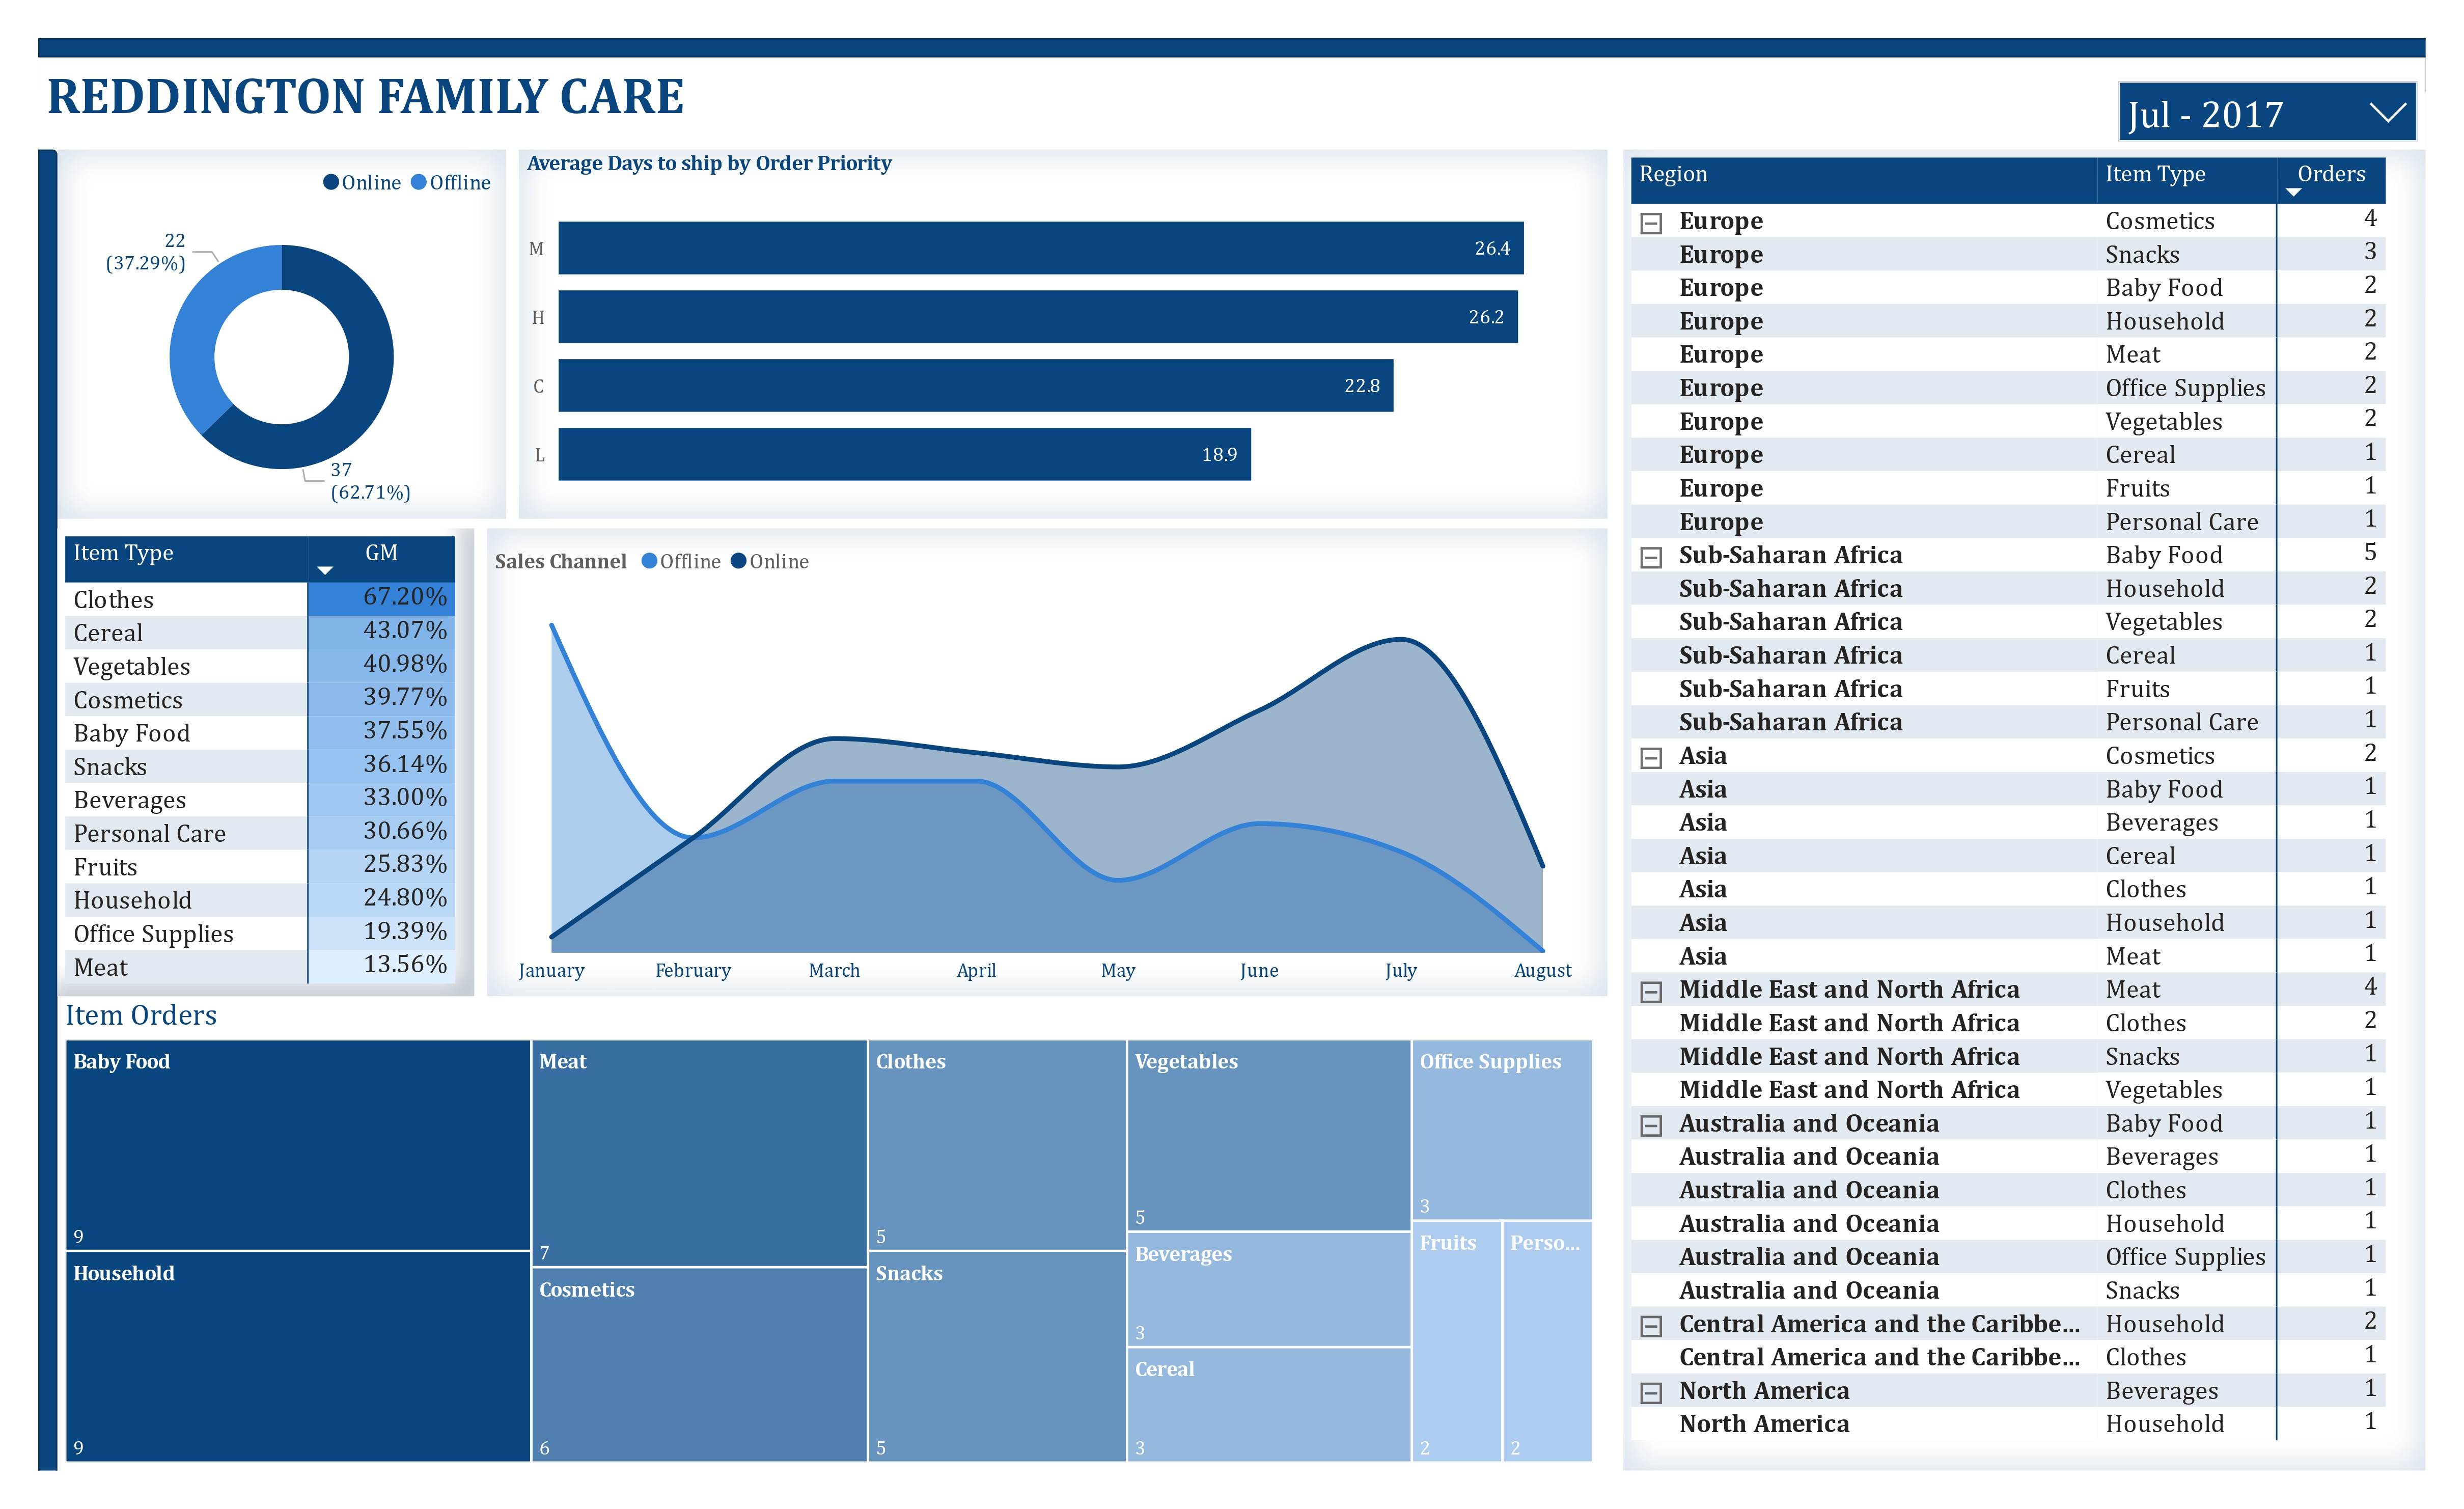

This screenshot's page, from the dashboard's own definition file:
{"tool":"powerbi","page":{"name":"Order Analysis","canvas":[1500,900],"ordinal":1},"visuals":[{"type":"shape","box":[0,0,2092,12],"z":0},{"type":"shape","box":[0,70,12,878],"z":1000},{"type":"slicer","fields":{"Values":["Calendar.Month-Year"]},"box":[1302.5,22.5,197.5,47.5],"z":2000},{"type":"donutChart","fields":{"Category":["Sales Records.Sales Channel"],"Y":["DAX.Order Count"]},"box":[12,70,282,232],"z":3000},{"type":"areaChart","fields":{"Category":["Calendar.Month Name"],"Y":["DAX.Order Count"],"Series":["Sales Records.Sales Channel"]},"box":[282,308,704,294],"z":4000},{"type":"pivotTable","fields":{"Rows":["Location.Region","Item.Item Type"],"Values":["DAX.Order Count"]},"box":[996,70,504,830],"z":5000},{"type":"pivotTable","fields":{"Rows":["Item.Item Type"],"Values":["DAX.GM"]},"box":[12,308,262,294],"z":6000},{"type":"treemap","title":"Item Orders","fields":{"Group":["Item.Item Type"],"Values":["DAX.Order Count"]},"box":[12,602,970,298],"z":7000},{"type":"clusteredBarChart","fields":{"Category":["Sales Records.Order Priority"],"Y":["DAX.Average Days to ship"]},"box":[302,70,684,232],"z":8000},{"type":"textbox","box":[0,12,422,58],"z":9000}]}

Visuals, with their boxes in screenshot pixels (x1, y1, x2, y2):
shape: detection(38, 38, 2426, 58)
shape: detection(38, 150, 58, 1471)
slicer - Calendar.Month-Year: detection(2112, 74, 2426, 150)
donutChart - Sales Records.Sales Channel x DAX.Order Count: detection(58, 150, 506, 519)
areaChart - Calendar.Month Name x DAX.Order Count: detection(487, 529, 1608, 997)
pivotTable - Location.Region x Item.Item Type: detection(1623, 150, 2426, 1471)
pivotTable - Item.Item Type x DAX.GM: detection(58, 529, 475, 997)
"Item Orders" treemap: detection(58, 997, 1601, 1471)
clusteredBarChart - Sales Records.Order Priority x DAX.Average Days to ship: detection(519, 150, 1608, 519)
textbox: detection(38, 58, 710, 150)
